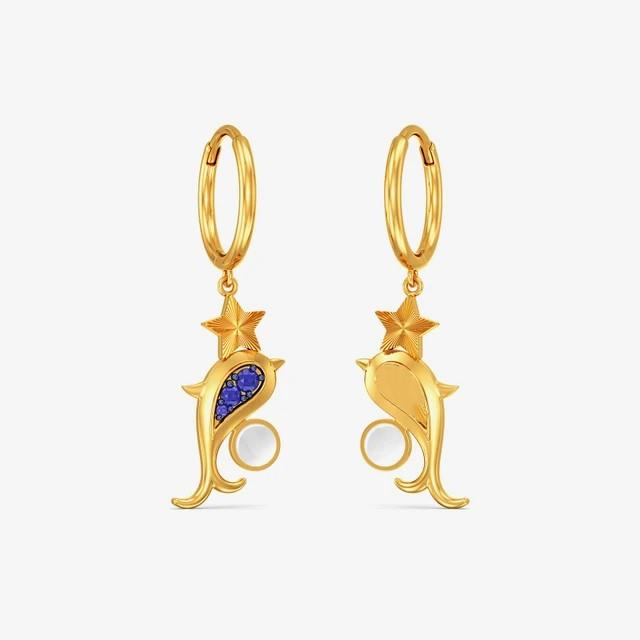missing gem: (374, 362, 426, 428)
